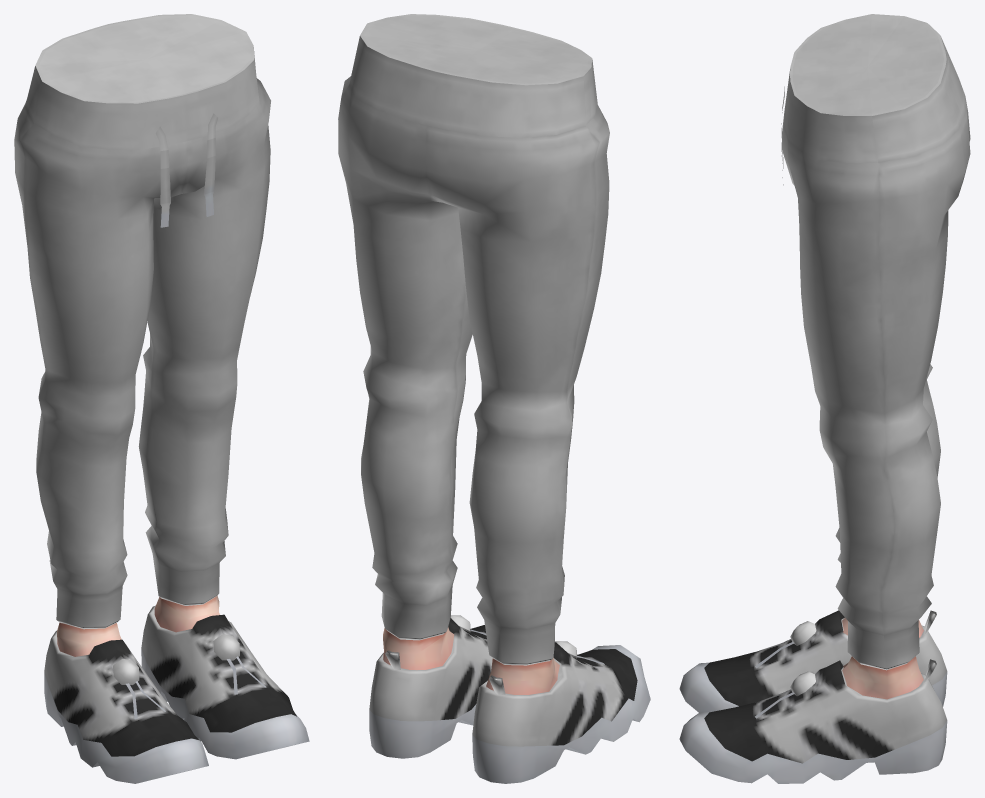
The model's file is tr0860_00_lwb01.gltf.
3 renders of one model, left to right at view 1: azimuth 30°, elevation 25°; view 2: azimuth 150°, elevation 25°; view 3: azimuth 270°, elevation 25°, orthographic. The views are drawn at different scales.
Parts seen in each view (by area): view 1: lwb01_lowerbody_mesh_shape:lowerbody01, lwb01_shoes_mesh_shape:lowerbody01, lwb01_lowerskin_mesh_shape:lowerbody01_skin; view 2: lwb01_lowerbody_mesh_shape:lowerbody01, lwb01_shoes_mesh_shape:lowerbody01, lwb01_lowerskin_mesh_shape:lowerbody01_skin; view 3: lwb01_lowerbody_mesh_shape:lowerbody01, lwb01_shoes_mesh_shape:lowerbody01, lwb01_lowerskin_mesh_shape:lowerbody01_skin.
Part boxes in pixels (left/top/right/bottom): lwb01_lowerbody_mesh_shape:lowerbody01: left=14, top=14, right=270, bottom=629; lwb01_shoes_mesh_shape:lowerbody01: left=44, top=605, right=309, bottom=783; lwb01_lowerskin_mesh_shape:lowerbody01_skin: left=57, top=595, right=219, bottom=656; lwb01_lowerbody_mesh_shape:lowerbody01: left=338, top=14, right=609, bottom=665; lwb01_shoes_mesh_shape:lowerbody01: left=369, top=615, right=650, bottom=783; lwb01_lowerskin_mesh_shape:lowerbody01_skin: left=383, top=627, right=559, bottom=694; lwb01_lowerbody_mesh_shape:lowerbody01: left=781, top=14, right=970, bottom=670; lwb01_shoes_mesh_shape:lowerbody01: left=679, top=610, right=947, bottom=783; lwb01_lowerskin_mesh_shape:lowerbody01_skin: left=842, top=618, right=923, bottom=699.
Size of what is drawn, in the model's own units: 0.3554 by 0.9337 by 0.3643.
2 materials, 2 textured.
